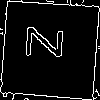Z: (25, 25, 73, 59)
